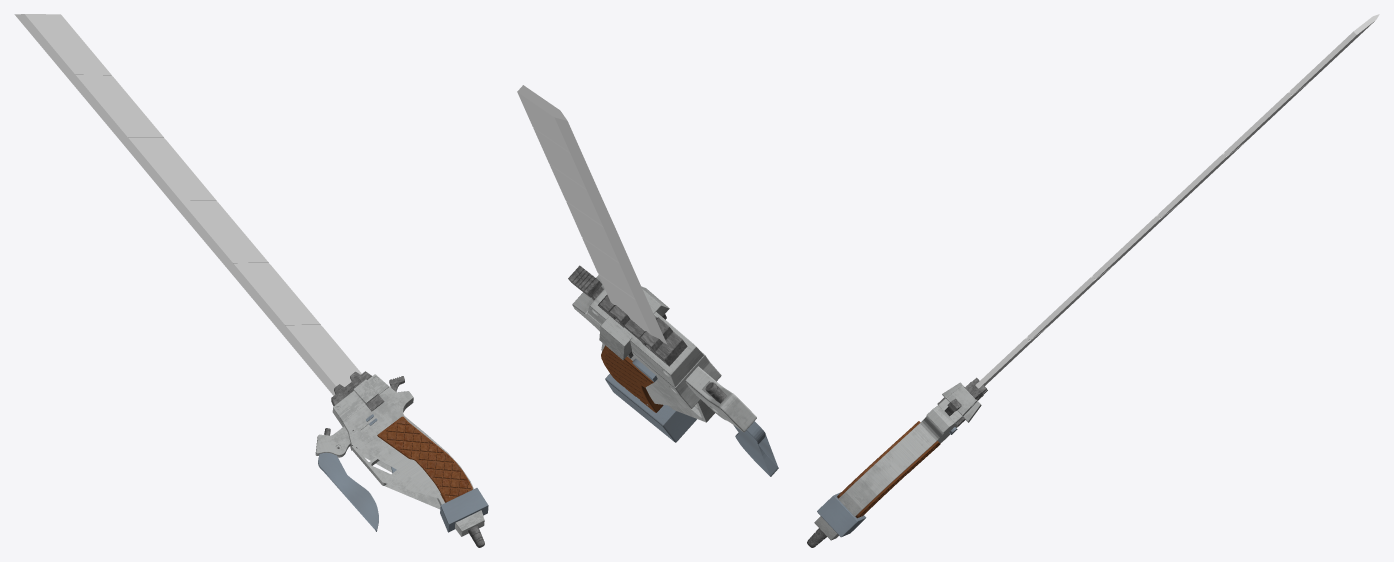
The model's file is blade.fbx.
The picture shows the model from 3 angles, left to right: view 1: azimuth 30°, elevation 25°; view 2: azimuth 150°, elevation 25°; view 3: azimuth 270°, elevation 25°; orthographic projection. The views are drawn at different scales.
Parts seen in each view (by area): view 1: 4; view 2: 4; view 3: 4.
Boxes of the visible parts, left/top/right/bottom form: 4: left=14, top=14, right=488, bottom=547; 4: left=517, top=85, right=778, bottom=476; 4: left=807, top=14, right=1379, bottom=547.
Size of the model in its own units: 869 by 1448 by 1762.
